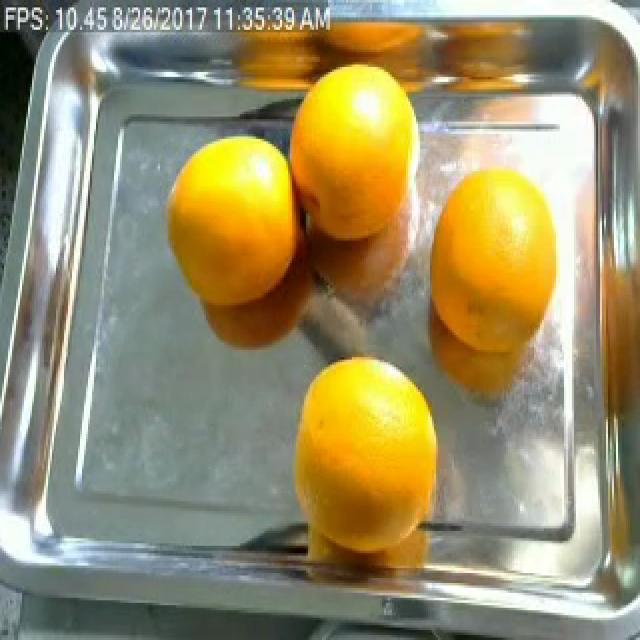Fruit: (414, 102, 582, 315), (152, 119, 310, 330), (284, 342, 446, 511)
